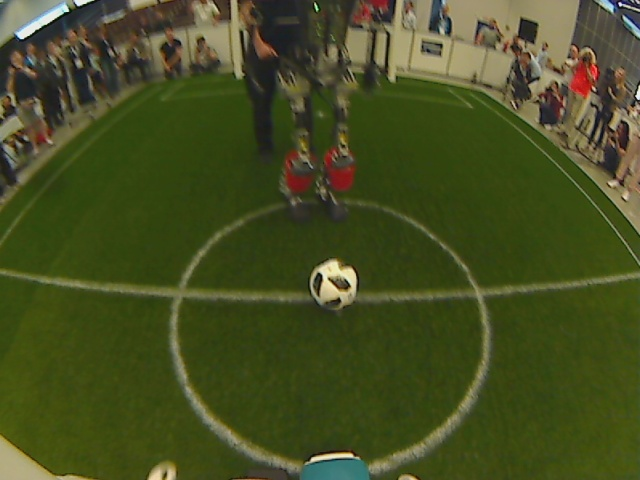ball: (306, 258, 362, 312)
